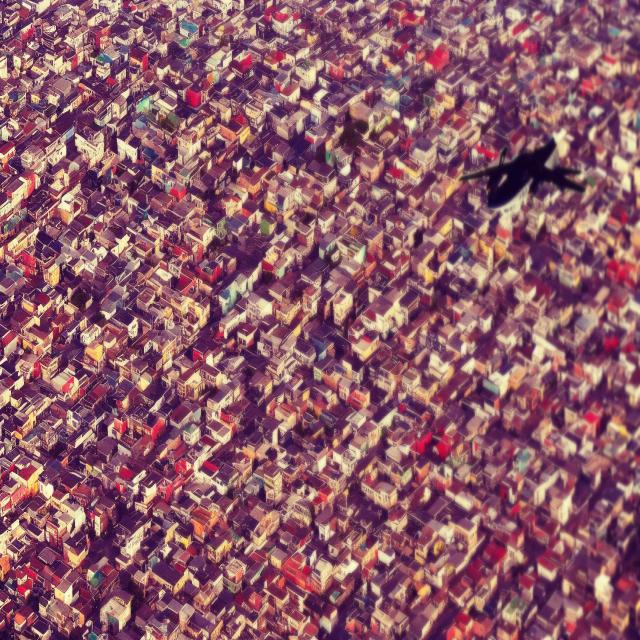airplane: (458, 130, 586, 214)
